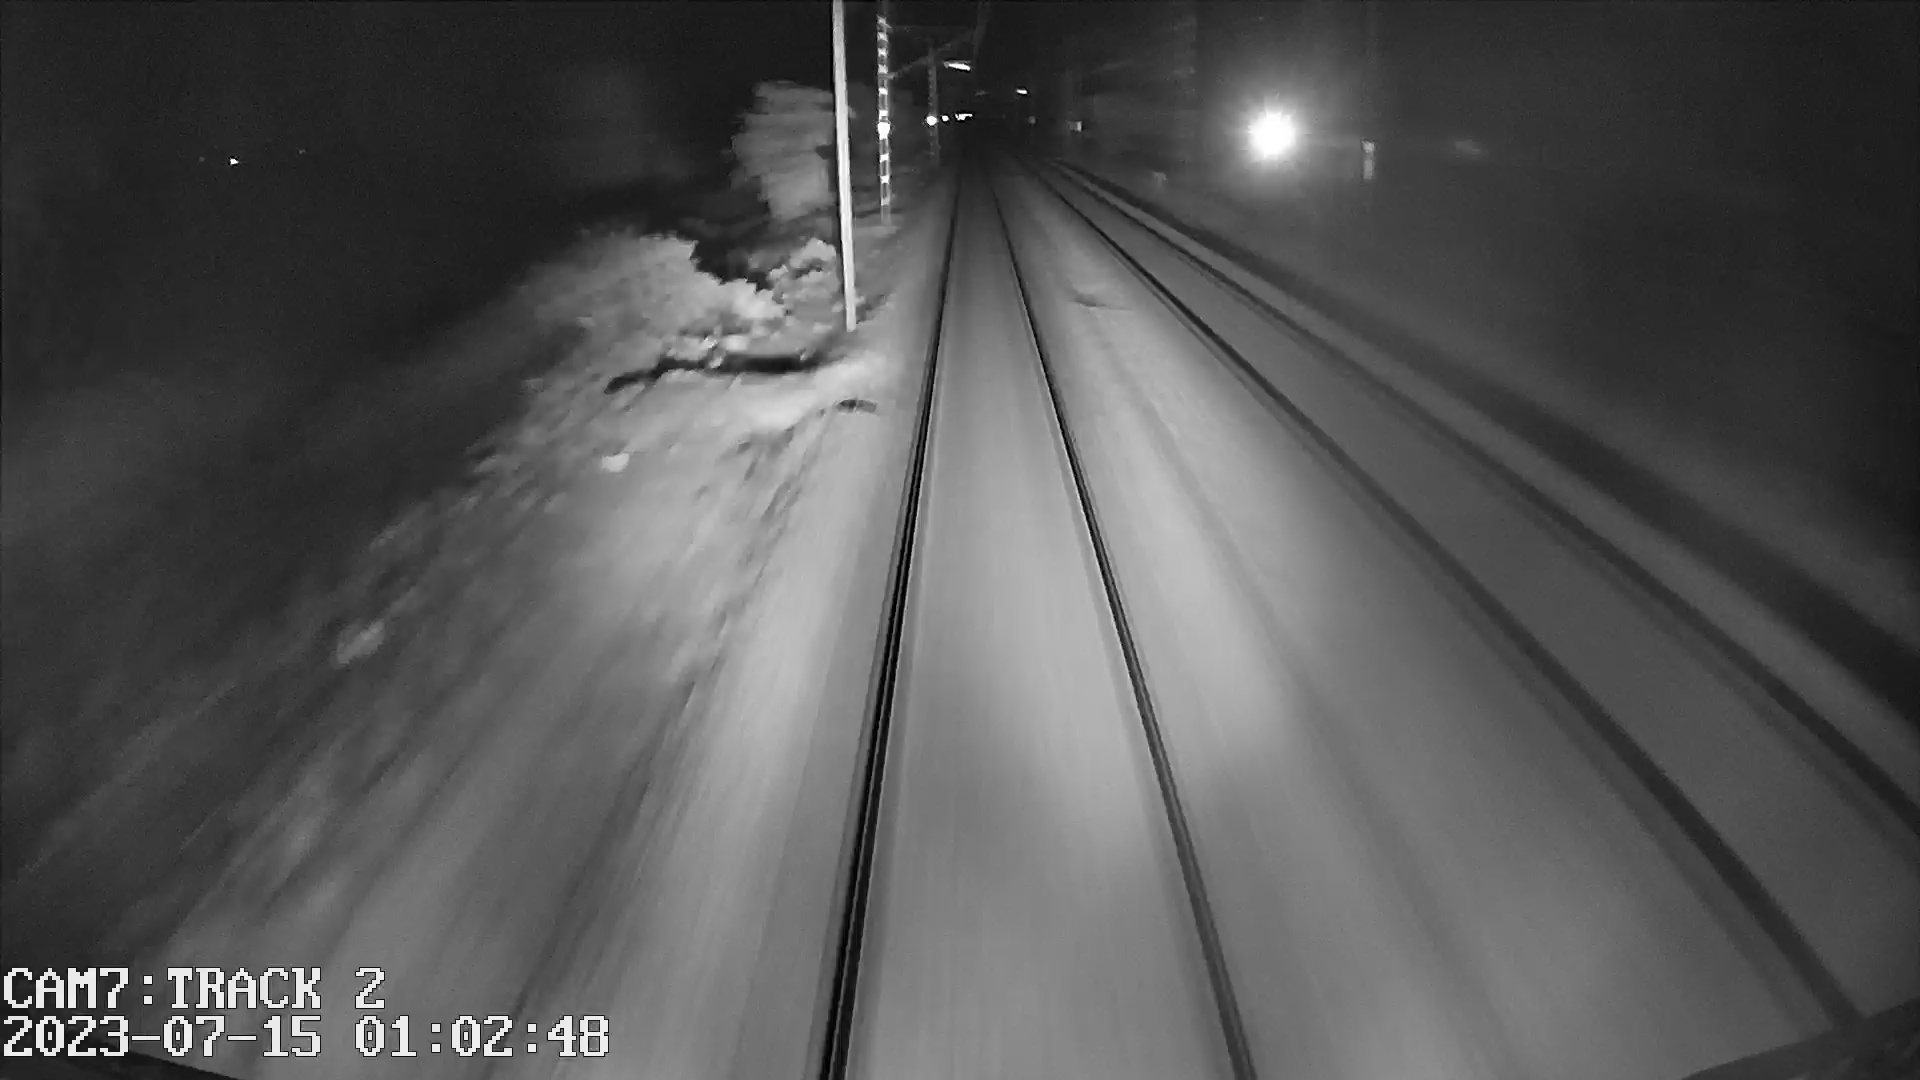track1: (834, 184, 1239, 1051)
track2: (1072, 203, 1902, 983)
